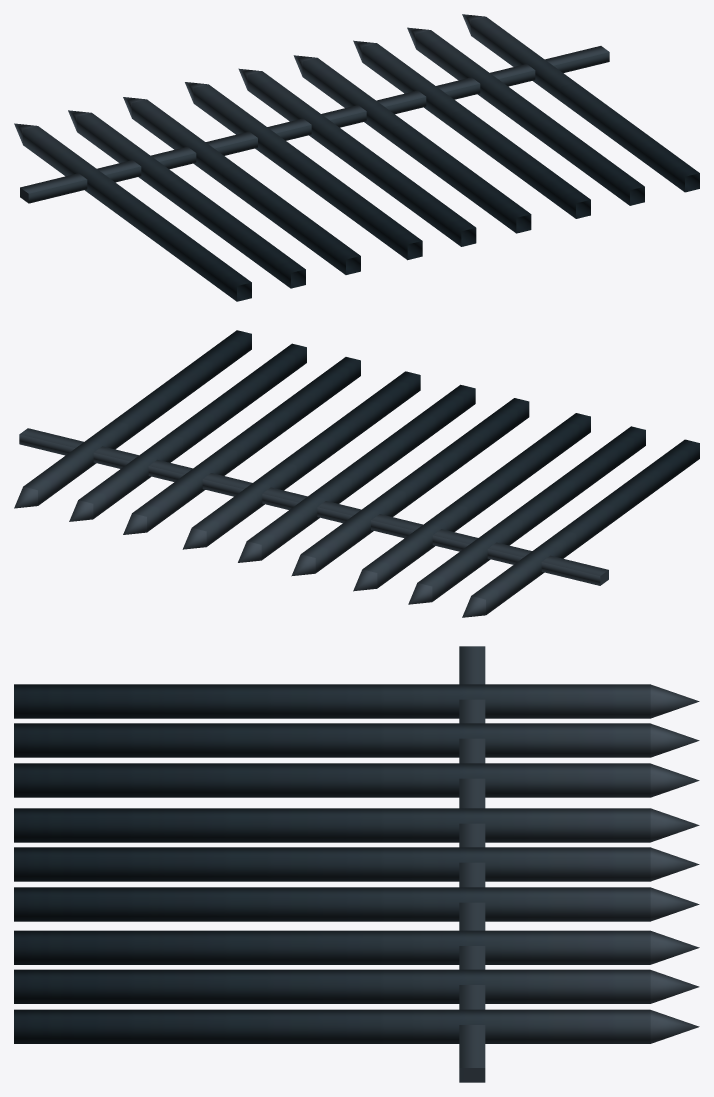
The model's file is Fence 01.FBX.
3 renders of one model, top to bottom at view 1: azimuth 30°, elevation 25°; view 2: azimuth 150°, elevation 25°; view 3: azimuth 270°, elevation 25°, orthographic. The views are drawn at different scales.
Visible parts, largest first — view 1: Fence 01; view 2: Fence 01; view 3: Fence 01.
Boxes of the visible parts, x1,y1,x2,y2 form: Fence 01: [14, 14, 699, 301]; Fence 01: [14, 330, 699, 617]; Fence 01: [14, 646, 699, 1082].
Bounding box in the file's own units: 347 × 238 × 8.96.
Materials: 1 (1 with a texture image).
